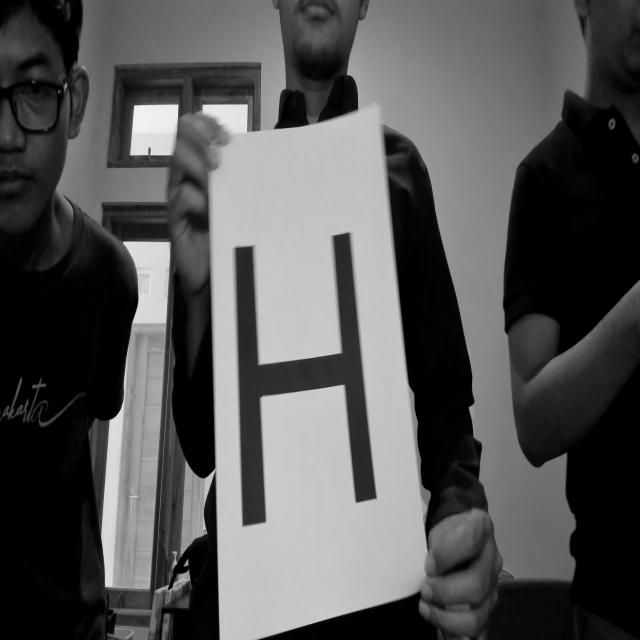h: (225, 216, 387, 544)
